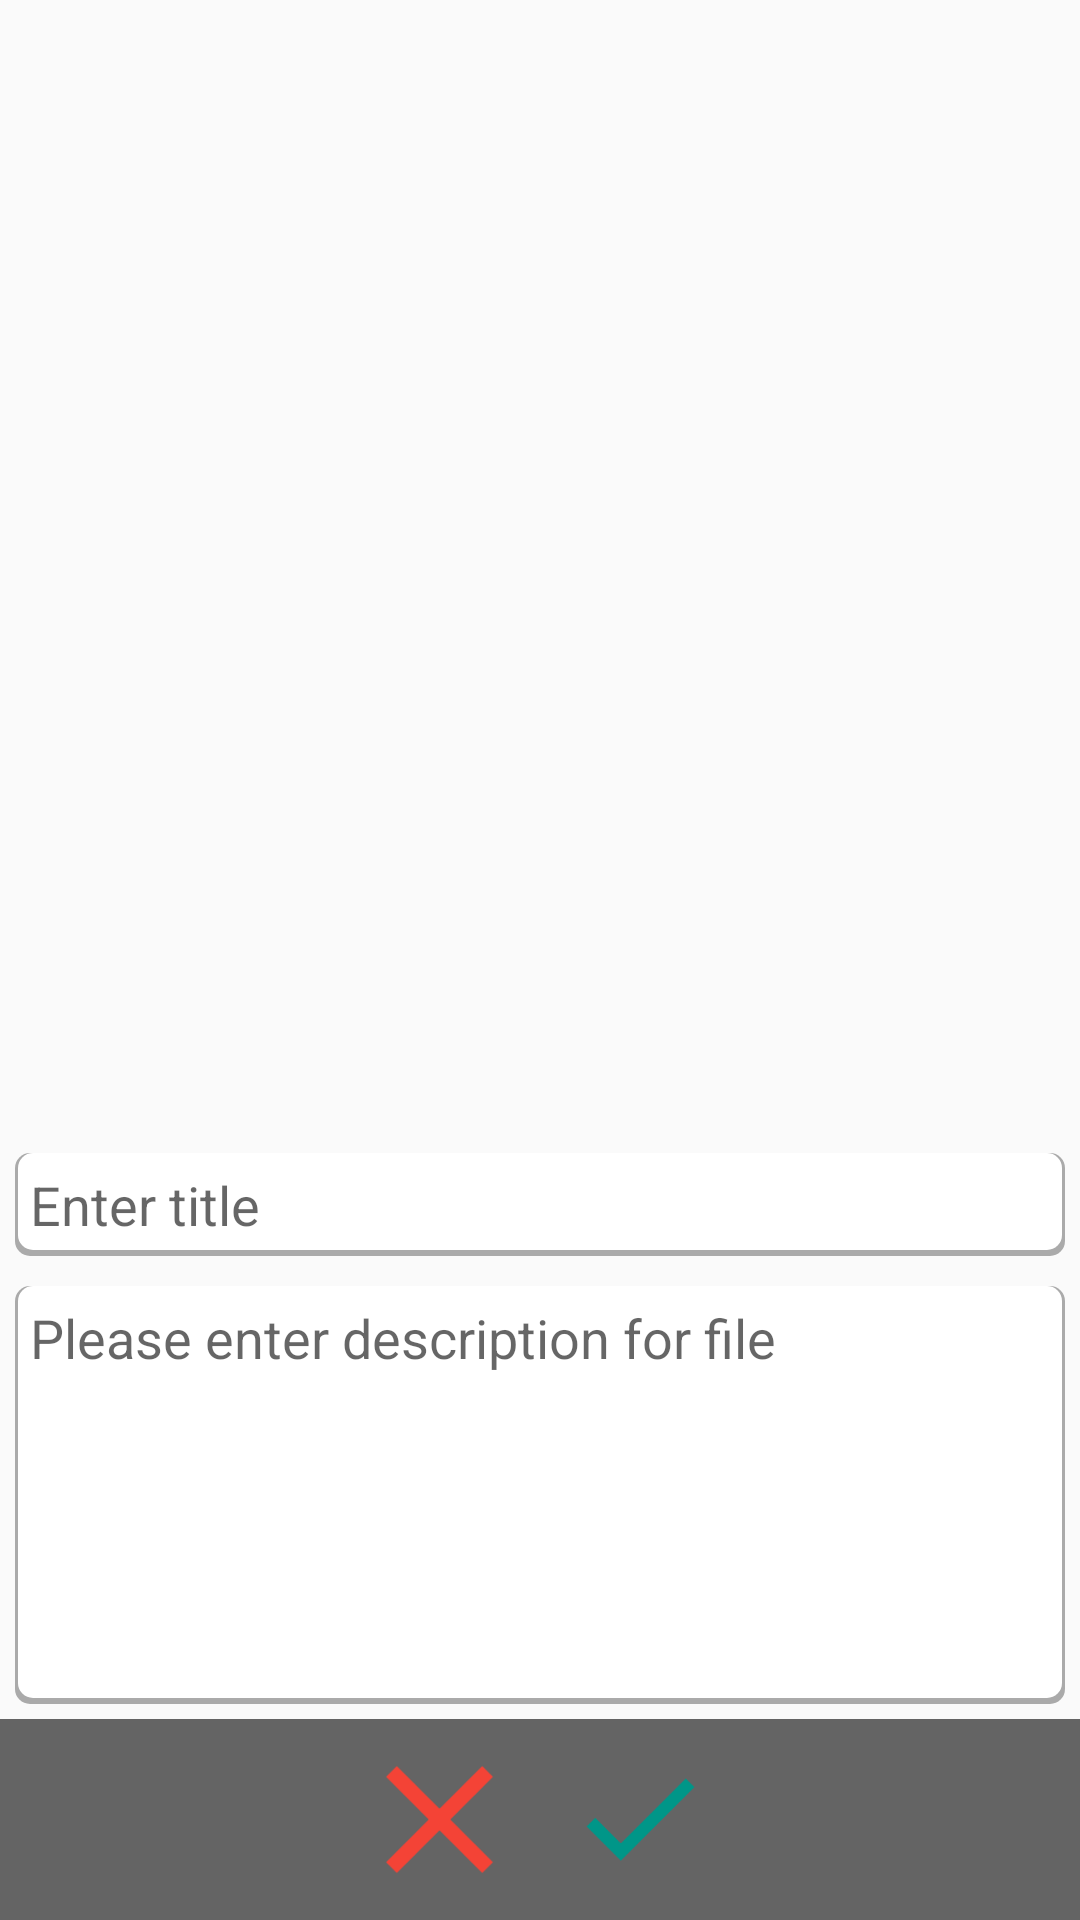

Icon bounding boxes for this 1080*1920 phone screenshot, format (x1, y1, x2, y2):
check: (587, 1778, 694, 1861)
close: (386, 1766, 493, 1873)
